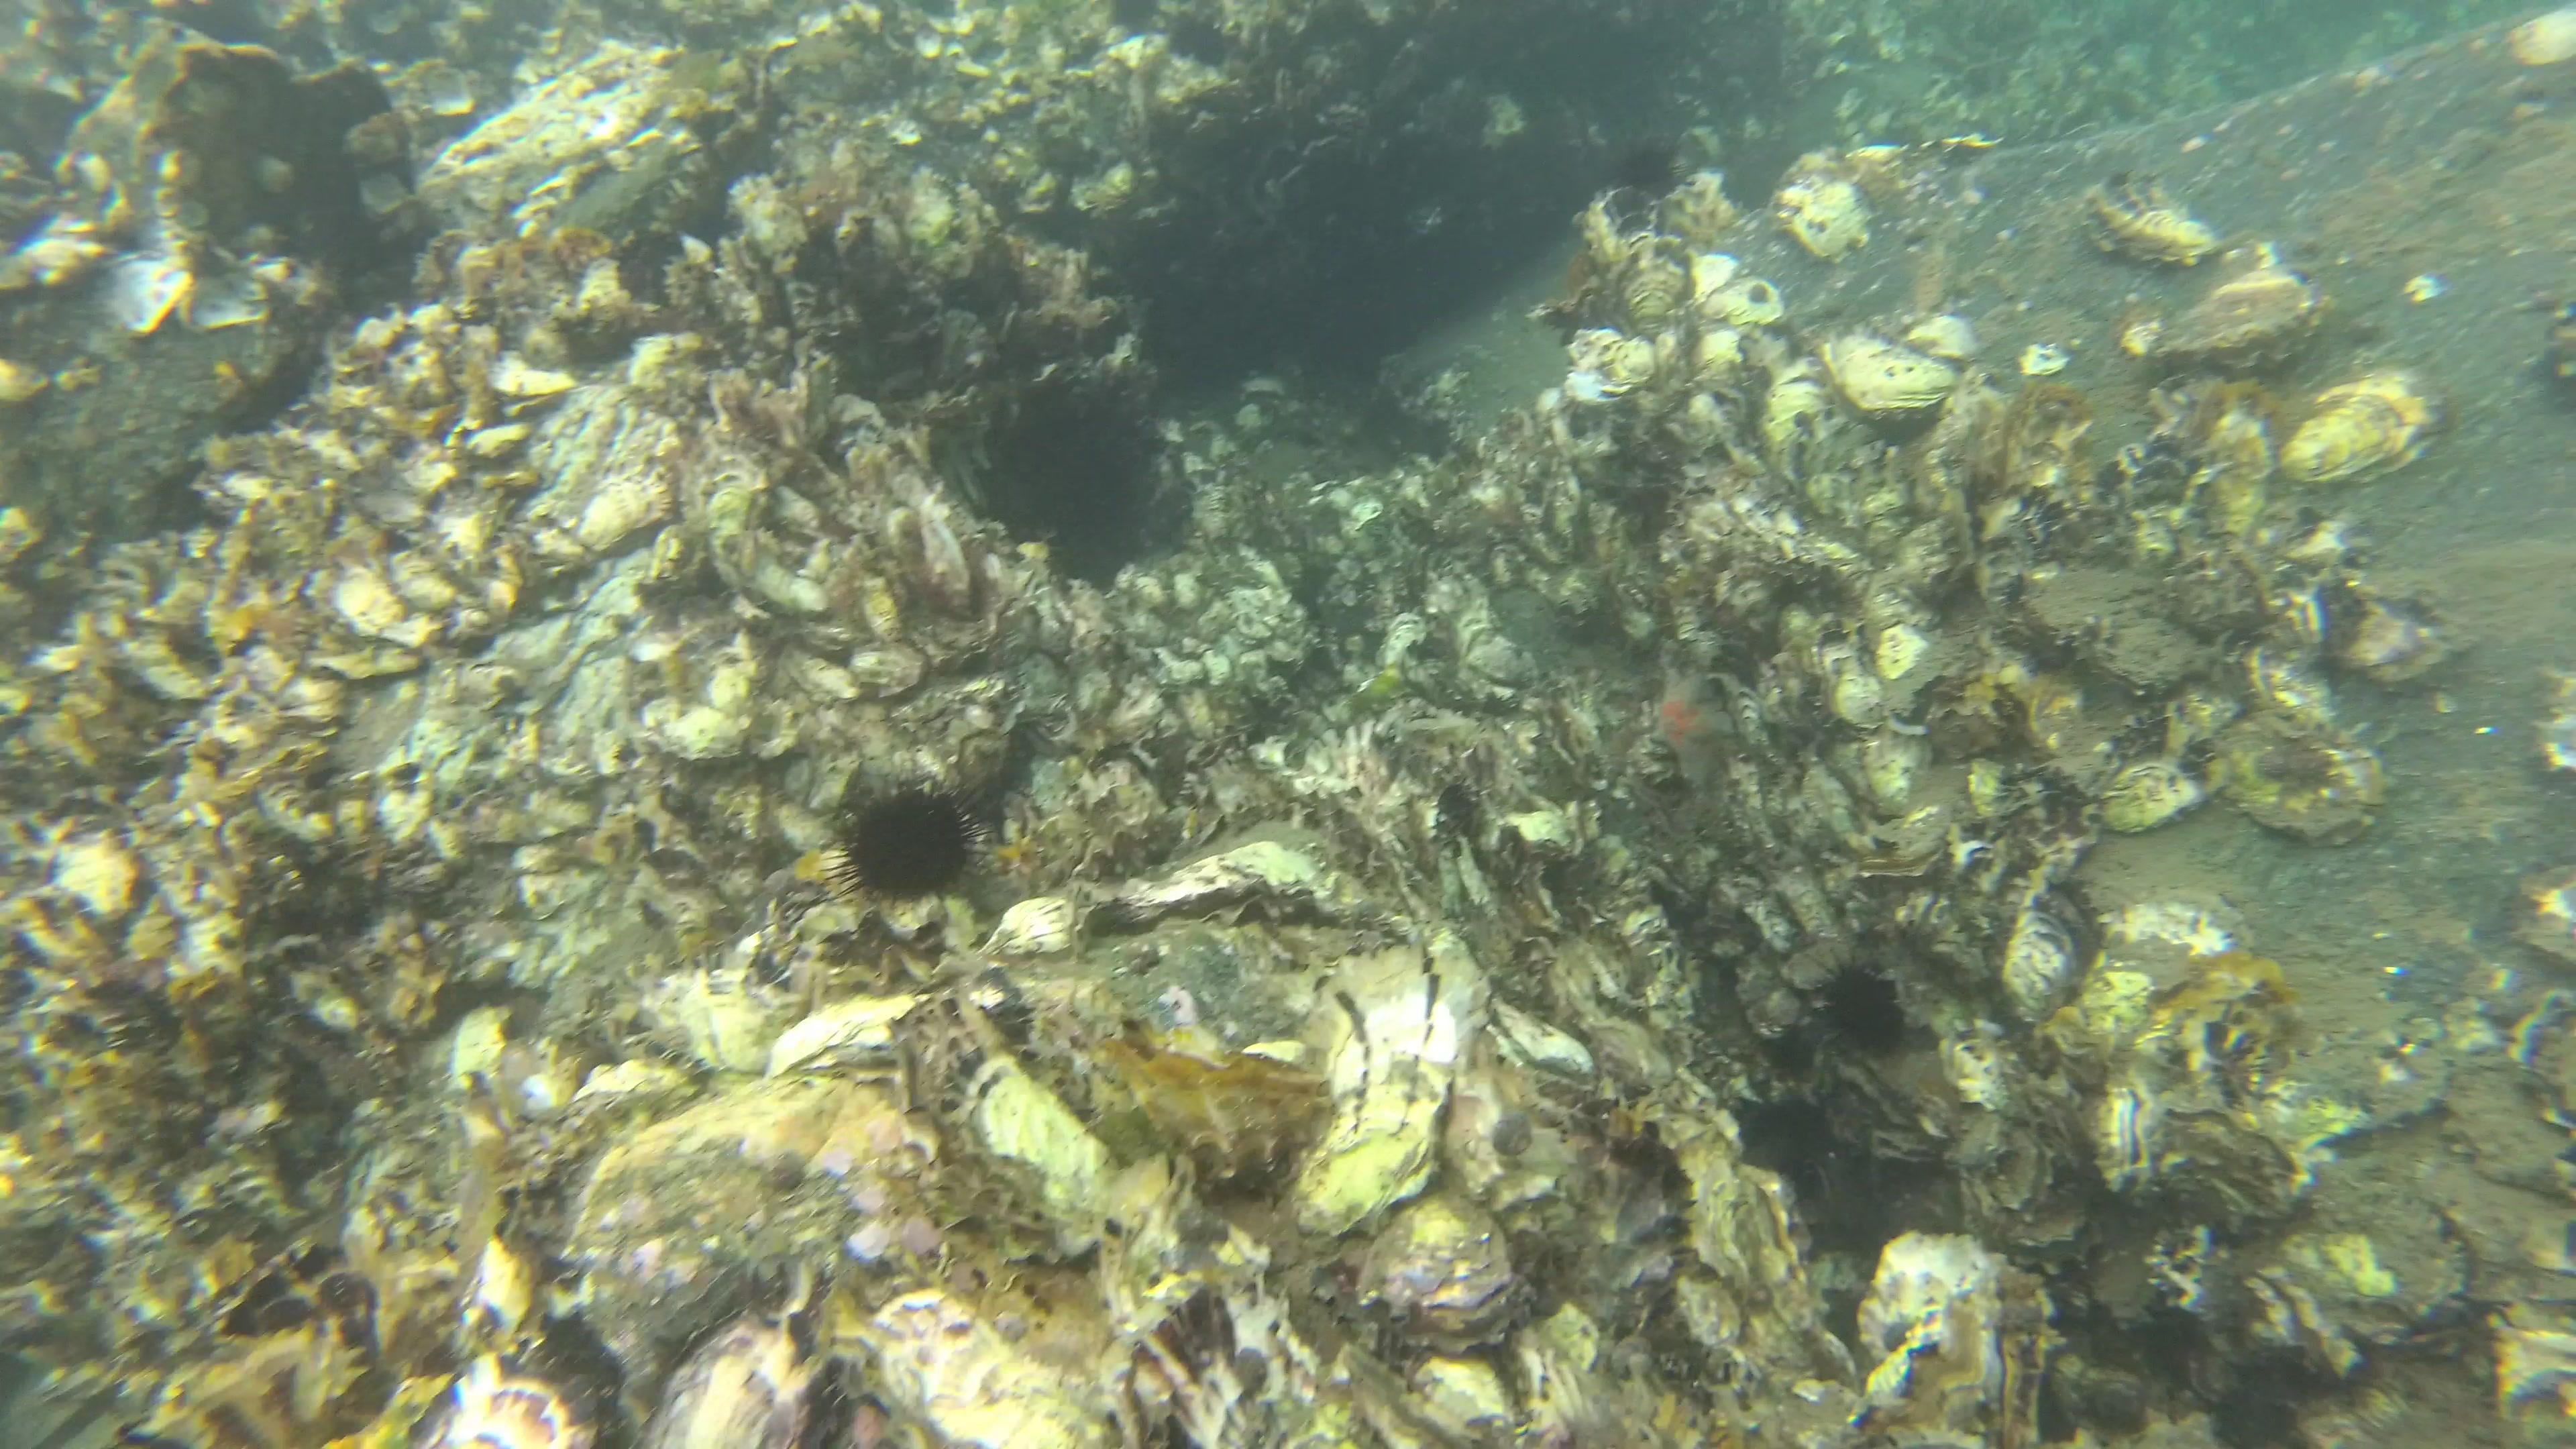echinus: (819, 757, 987, 918), (1805, 947, 1920, 1065)
starfish: (1638, 658, 1744, 800)
